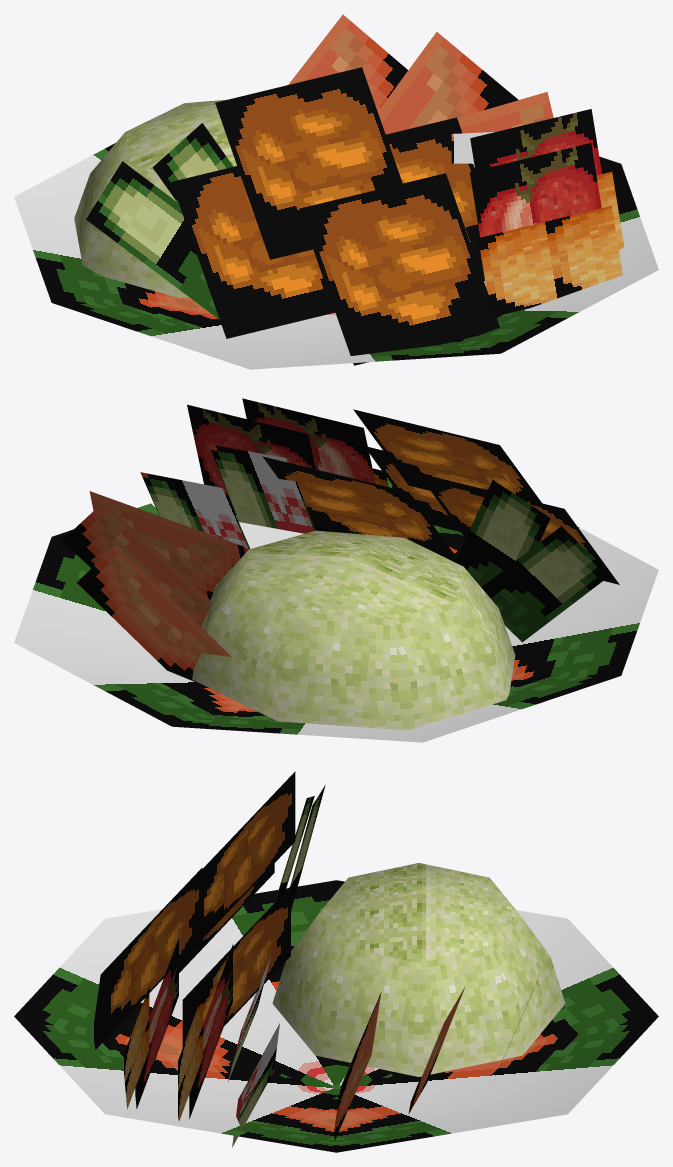
3 renders of one model, top to bottom at view 1: azimuth 30°, elevation 25°; view 2: azimuth 150°, elevation 25°; view 3: azimuth 270°, elevation 25°, orthographic.
Visible parts, largest first — view 1: 5543u_kara_ss; view 2: 5543u_kara_ss; view 3: 5543u_kara_ss.
Part boxes in pixels (box(x1,y1,x2,y2)): 5543u_kara_ss: box(14, 14, 658, 369); 5543u_kara_ss: box(14, 398, 658, 742); 5543u_kara_ss: box(14, 771, 658, 1152).
Bounding box in the file's own units: 0.9878 × 0.4202 × 0.9878.
6 materials, 6 textured.
